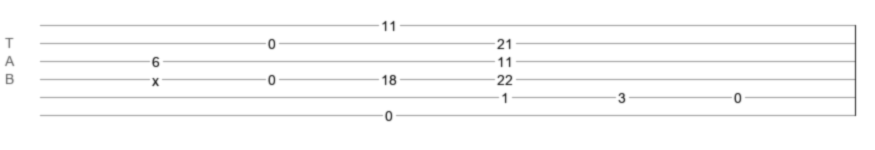0: (268, 72, 276, 82), (268, 36, 276, 46), (385, 108, 393, 118), (734, 90, 742, 100)
1: (501, 90, 509, 100)
11: (381, 18, 397, 28), (497, 54, 513, 64)
18: (381, 72, 397, 82)
21: (497, 36, 513, 46)
22: (497, 72, 513, 82)
3: (618, 90, 626, 100)
6: (152, 54, 160, 64)
x: (152, 73, 159, 81)
